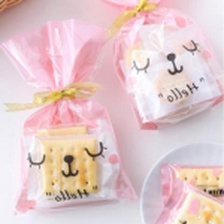snack: (0, 11, 143, 220), (91, 0, 224, 135), (151, 157, 223, 224)
